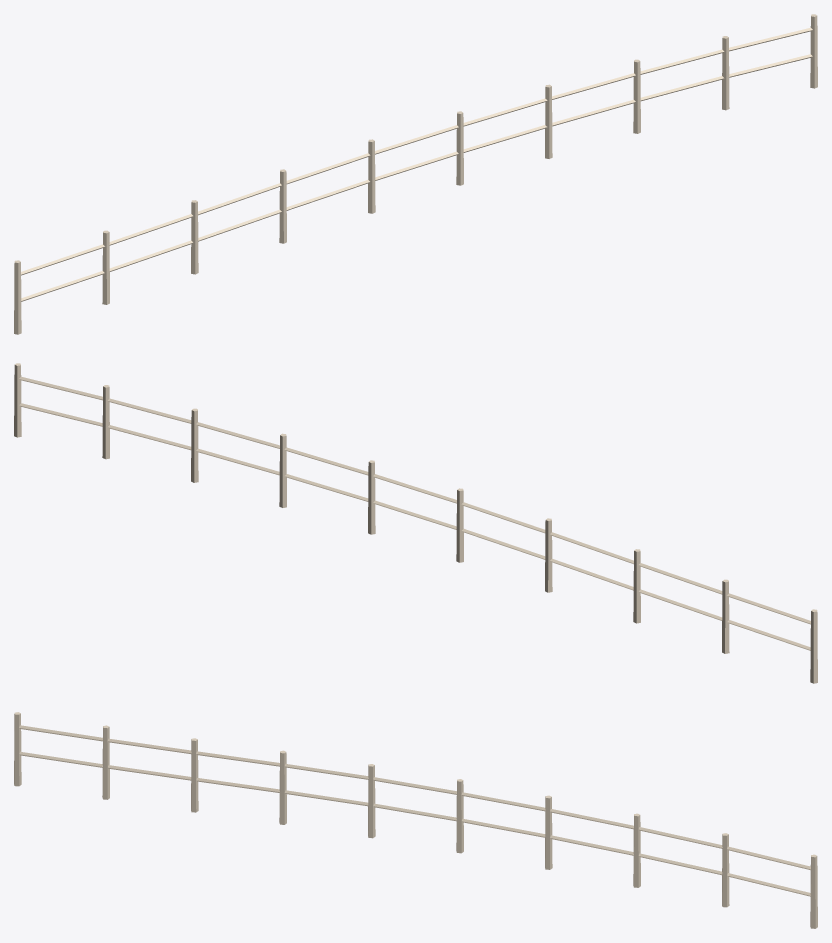
3 views of the same model, one above another, from view 1: azimuth 30°, elevation 25°; view 2: azimuth 150°, elevation 25°; view 3: azimuth 330°, elevation 25° (orthographic).
Parts seen in each view (by area): view 1: WB_fence_105_146; view 2: WB_fence_105_146; view 3: WB_fence_105_146.
Boxes of the visible parts, left/top/right/bottom form: WB_fence_105_146: left=14, top=14, right=817, bottom=334; WB_fence_105_146: left=14, top=363, right=817, bottom=683; WB_fence_105_146: left=14, top=712, right=817, bottom=928.
Bounding box in the file's own units: 15.88 × 2.33 × 0.1331.
